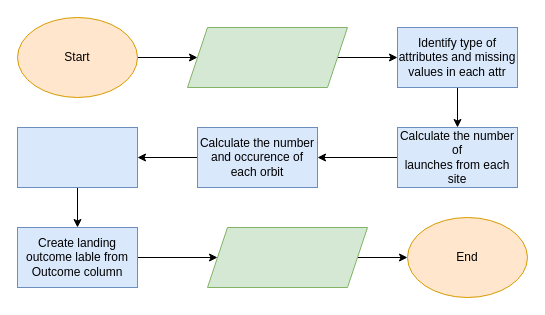
This 545x315 diagram has some shape labels left out. The centre of each missing label's shape, as x and y in pixels:
Calculate the number and occurence of mission outcome of the orbits: point (77, 157)
Load dataset and convert it into pandas dataframe: point (267, 57)
Save prepared data into c sv file: point (287, 257)
